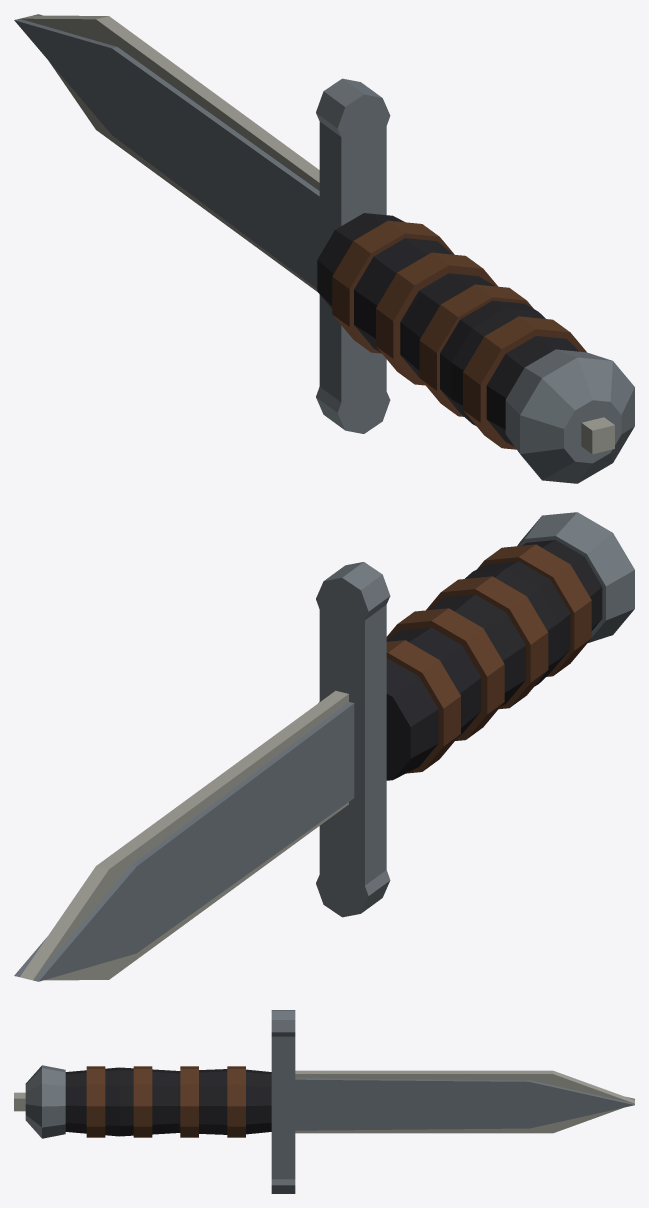
Rendered from dagger.glb.
3 views of the same model, one above another, from view 1: azimuth 30°, elevation 25°; view 2: azimuth 150°, elevation 25°; view 3: azimuth 270°, elevation 25° (orthographic). The views are drawn at different scales.
Parts seen in each view (by area): view 1: dagger; view 2: dagger; view 3: dagger.
Boxes of the visible parts, x1,y1,x2,y2 form: dagger: (14, 14, 634, 483); dagger: (14, 512, 634, 981); dagger: (14, 1010, 634, 1193).
Bounding box in the file's own units: 0.0304 × 0.086 × 0.265.
Materials: 2 (2 with a texture image).
